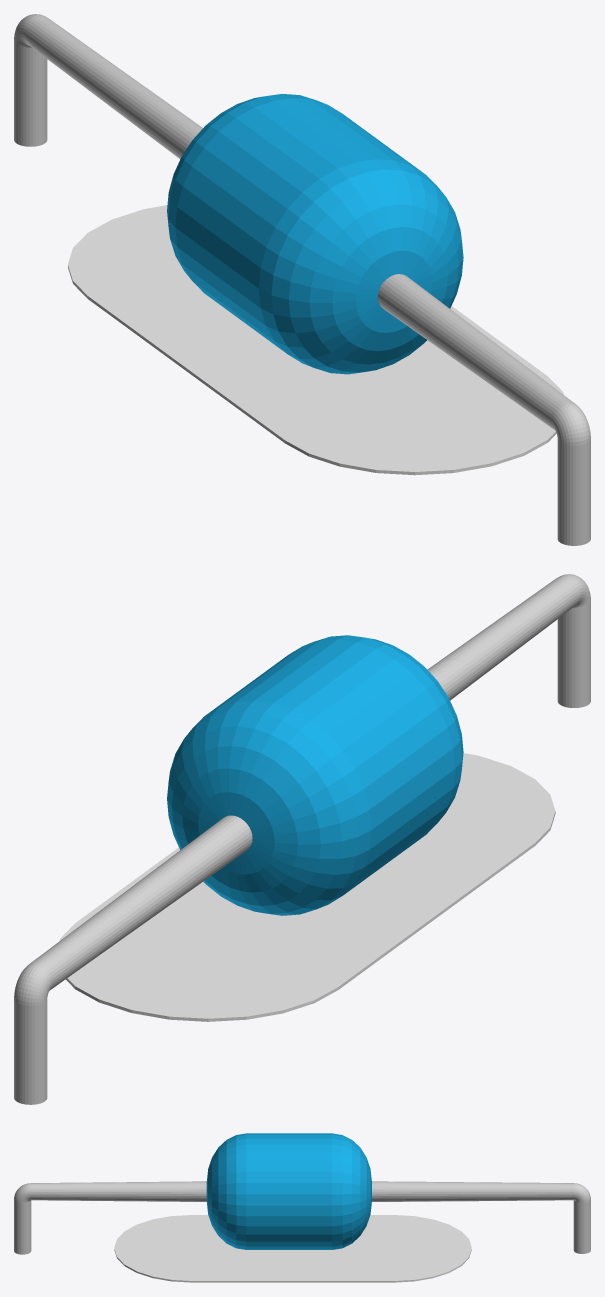
Rendered from Y_2_defect.gltf.
The picture shows the model from 3 angles, top to bottom: view 1: azimuth 30°, elevation 25°; view 2: azimuth 150°, elevation 25°; view 3: azimuth 270°, elevation 25°; orthographic projection. The views are drawn at different scales.
Visible parts, largest first — view 1: Y_2, Y_2_plane; view 2: Y_2, Y_2_plane; view 3: Y_2, Y_2_plane.
Boxes of the visible parts, x1,y1,x2,y2 form: Y_2: (14,14,590,545); Y_2_plane: (68,205,563,475); Y_2: (14,574,590,1104); Y_2_plane: (59,753,555,1021); Y_2: (14,1133,590,1254); Y_2_plane: (114,1215,471,1282).
Size of the model in its own units: 0.018 by 0.0143 by 0.0666.
